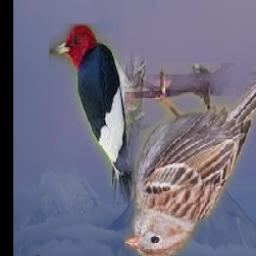Sparrow: (124, 64, 256, 256)
Woodpecker: (50, 25, 147, 205)
